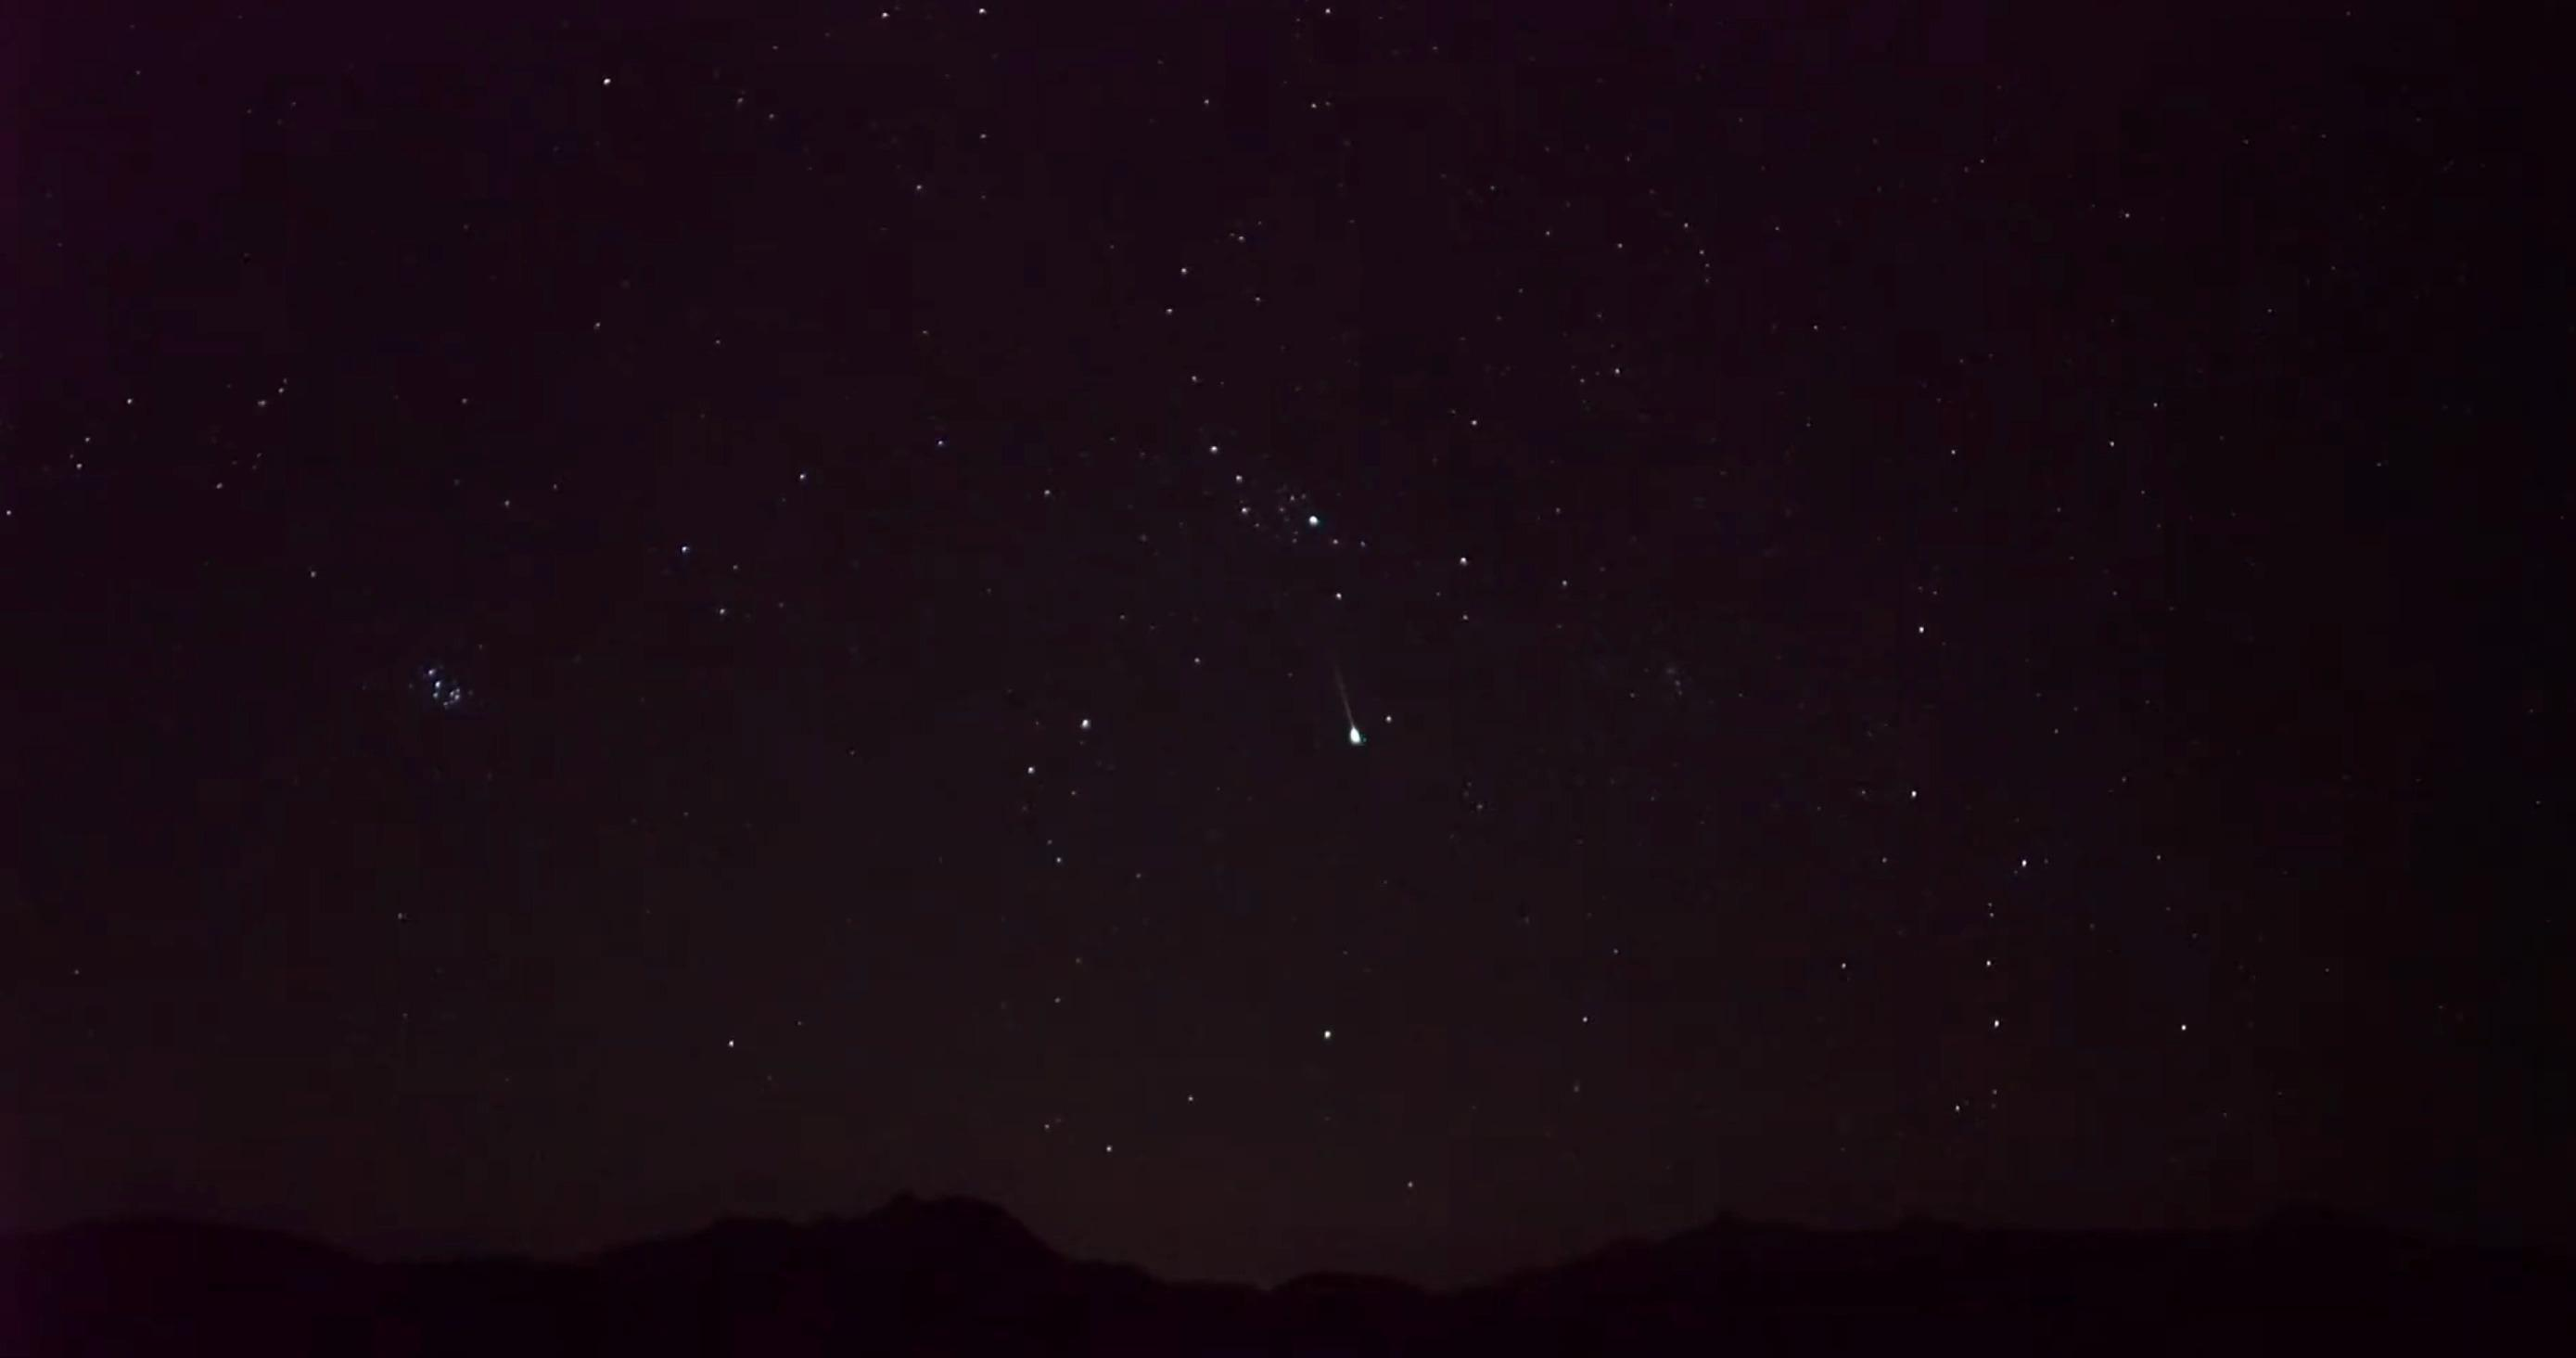meteorite: (1279, 651, 1400, 765)
